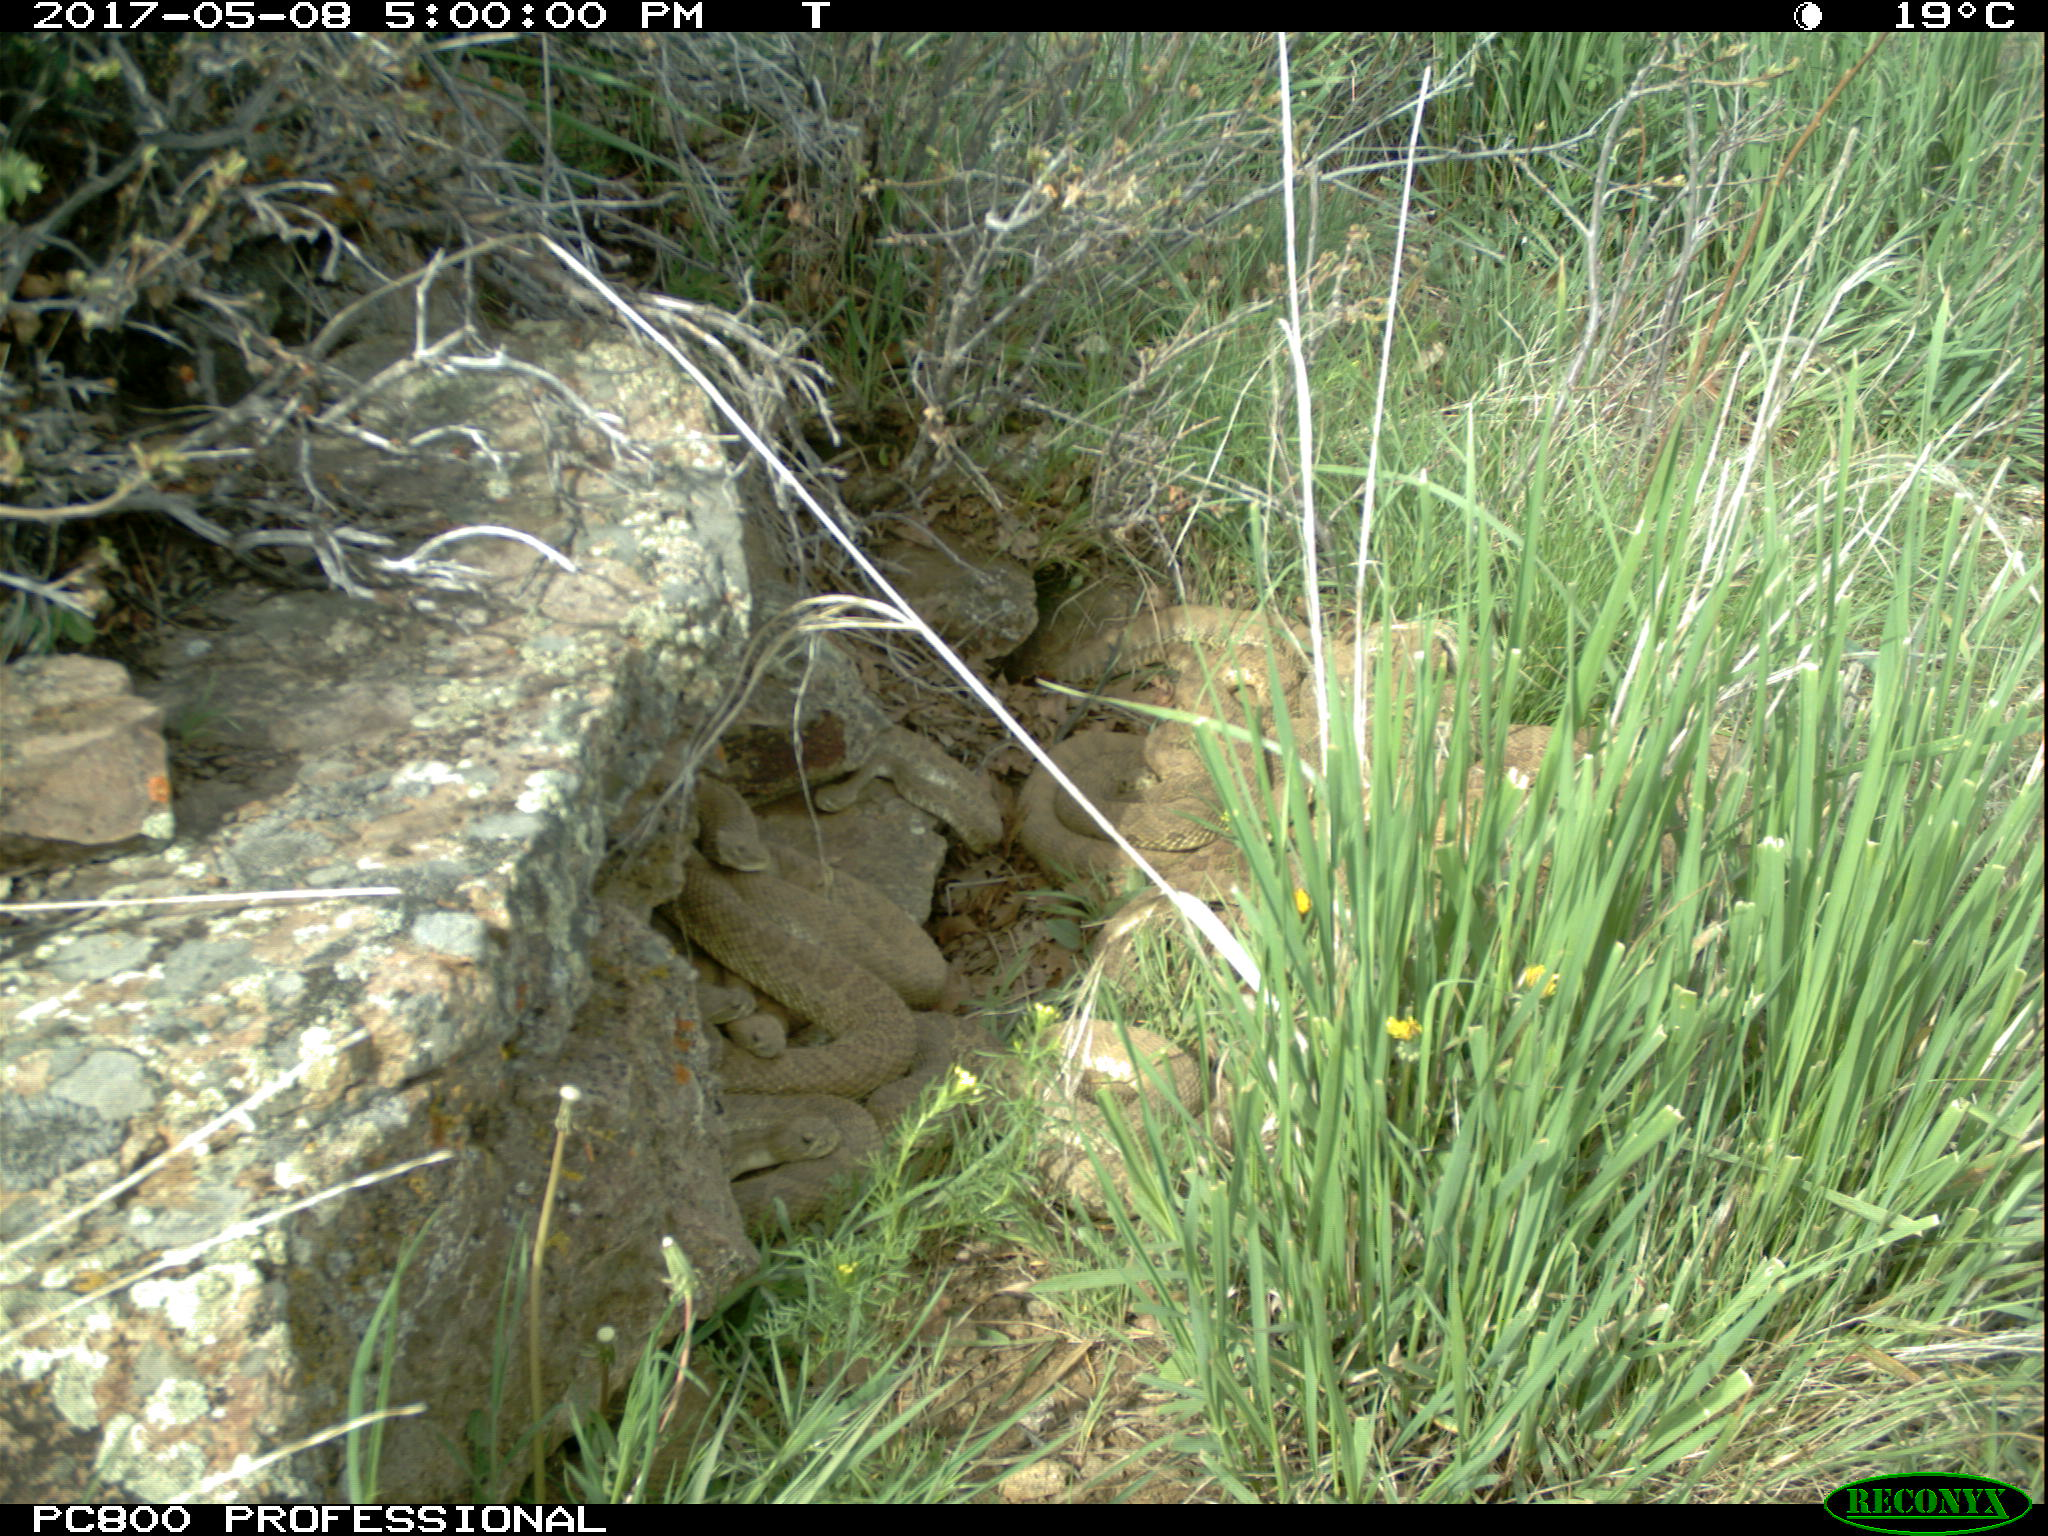snake: (692, 776, 961, 1005), (676, 870, 947, 1096), (990, 1018, 1256, 1217), (1021, 729, 1284, 908), (1080, 607, 1442, 733), (716, 1081, 884, 1239), (822, 750, 1019, 849)
